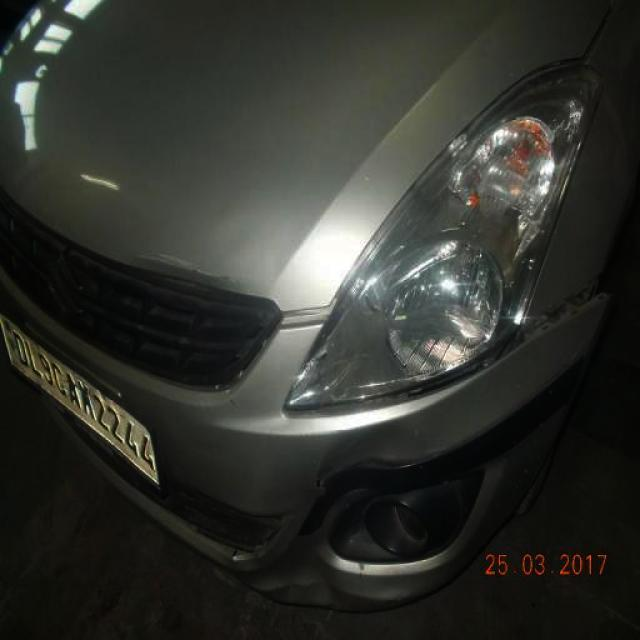car damage: (334, 281, 611, 415), (234, 426, 433, 608)
